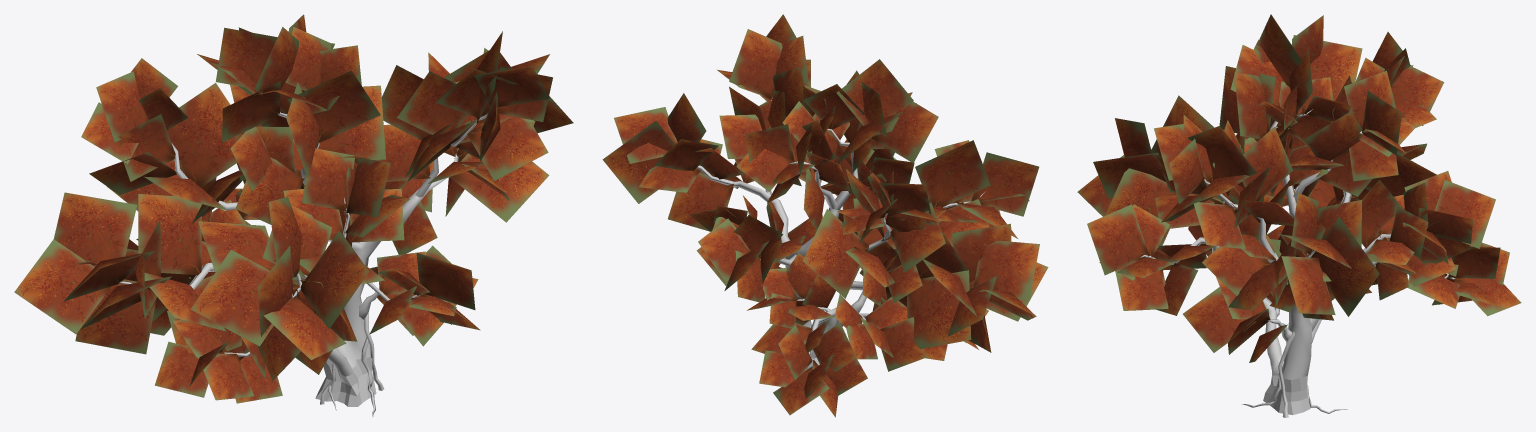
Rendered from JiaYeSiWai1_ShuHong_1.FBX.
The picture shows the model from 3 angles, left to right: view 1: azimuth 30°, elevation 25°; view 2: azimuth 150°, elevation 25°; view 3: azimuth 270°, elevation 25°; orthographic projection. The views are drawn at different scales.
Parts seen in each view (by area): view 1: JiaYeSiWai1_ShuHong_1a, JiaYeSiWai1_ShuHong_1b; view 2: JiaYeSiWai1_ShuHong_1a, JiaYeSiWai1_ShuHong_1b; view 3: JiaYeSiWai1_ShuHong_1a, JiaYeSiWai1_ShuHong_1b.
Boxes of the visible parts, x1=… form: JiaYeSiWai1_ShuHong_1a: x1=14, y1=14, x2=573, y2=403; JiaYeSiWai1_ShuHong_1b: x1=119, y1=112, x2=487, y2=416; JiaYeSiWai1_ShuHong_1a: x1=602, y1=14, x2=1048, y2=417; JiaYeSiWai1_ShuHong_1b: x1=697, y1=98, x2=985, y2=369; JiaYeSiWai1_ShuHong_1a: x1=1077, y1=14, x2=1521, y2=362; JiaYeSiWai1_ShuHong_1b: x1=1140, y1=109, x2=1455, y2=417.
Bounding box in the file's own units: 1930 × 1364 × 1531.
